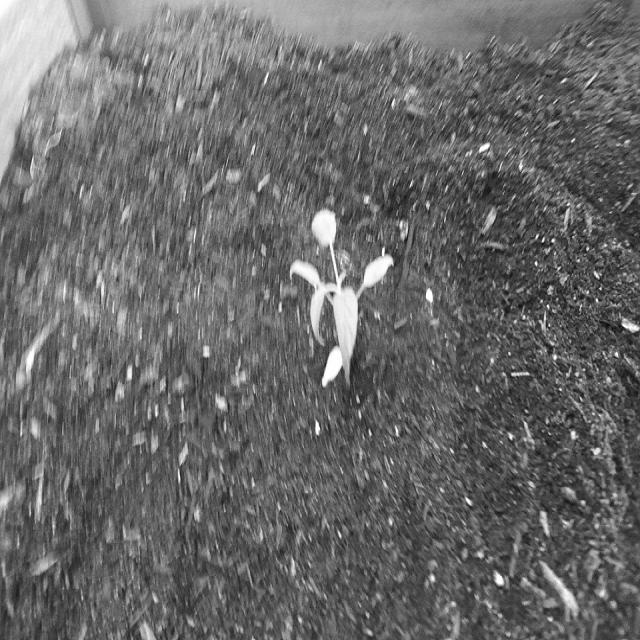Healthy: (284, 194, 397, 403)
